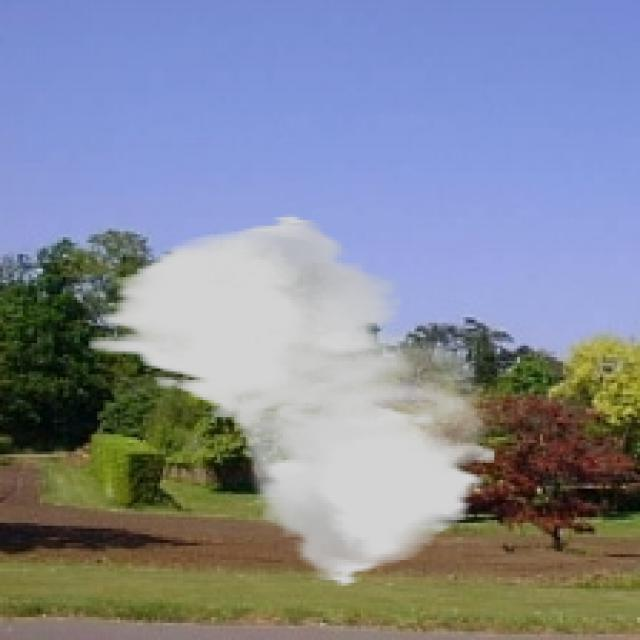Smoke: (89, 214, 498, 589)
